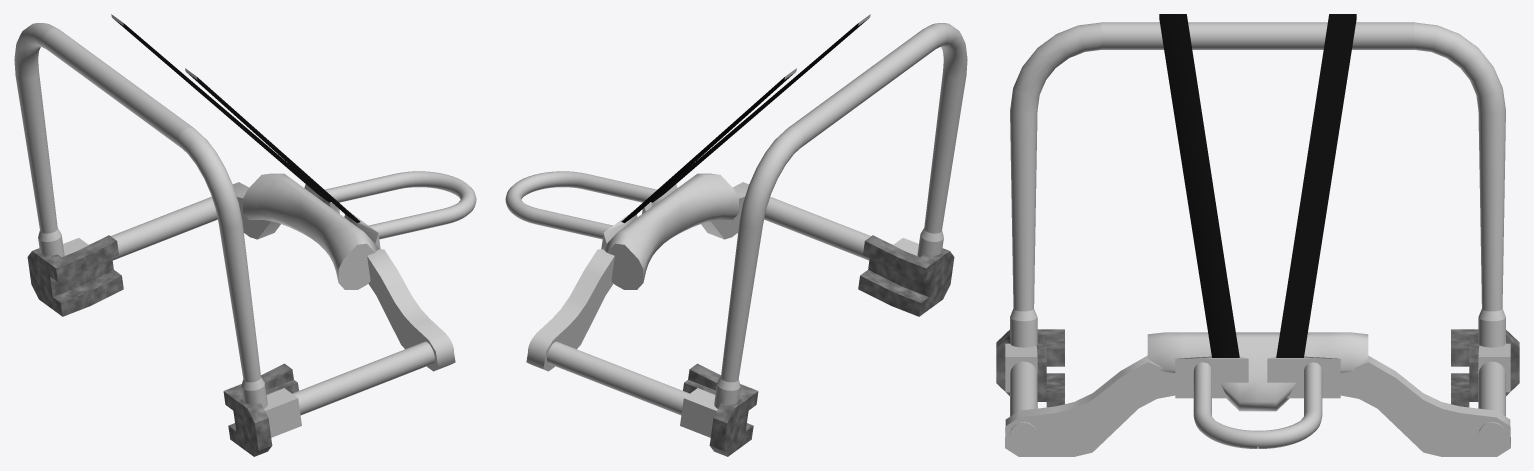
The model's file is restraint.obj.
3 renders of one model, left to right at view 1: azimuth 30°, elevation 25°; view 2: azimuth 150°, elevation 25°; view 3: azimuth 270°, elevation 25°, orthographic. The views are drawn at different scales.
Size of the model in its own units: 0.6593 by 0.5816 by 0.7239.
